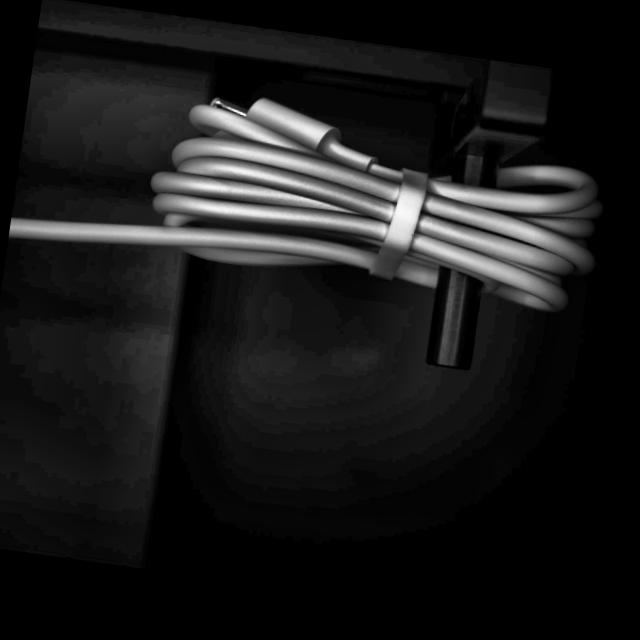Cable: (8, 61, 620, 322)
